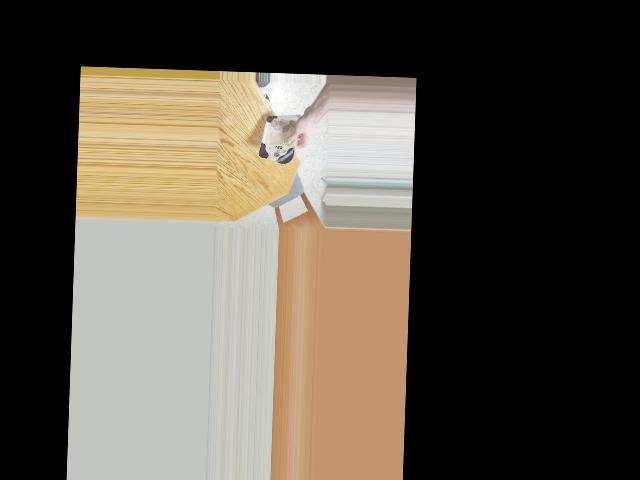cheese: (260, 103, 299, 166)
